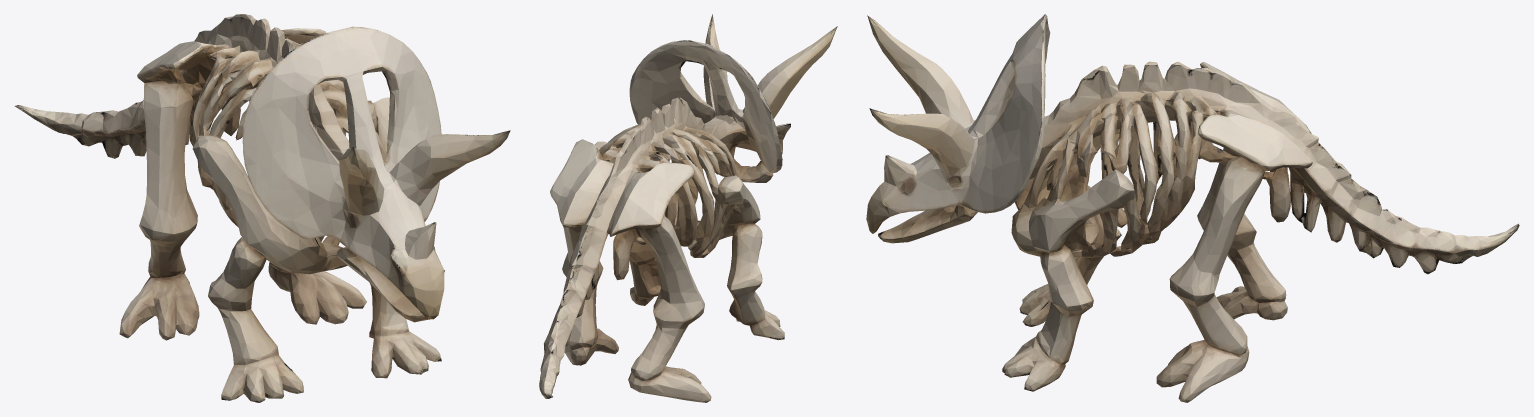
The model's file is triceratops-skjelett.glb.
The picture shows the model from 3 angles, left to right: view 1: azimuth 30°, elevation 25°; view 2: azimuth 150°, elevation 25°; view 3: azimuth 270°, elevation 25°; orthographic projection. The views are drawn at different scales.
Visible parts, largest first — view 1: geometry_0; view 2: geometry_0; view 3: geometry_0.
Boxes of the visible parts, x1,y1,x2,y2 form: geometry_0: (14,14,510,402); geometry_0: (539,14,837,402); geometry_0: (866,14,1519,402).
Bounding box in the file's own units: 0.3623 × 0.5614 × 1.
Materials: 1 (1 with a texture image).
